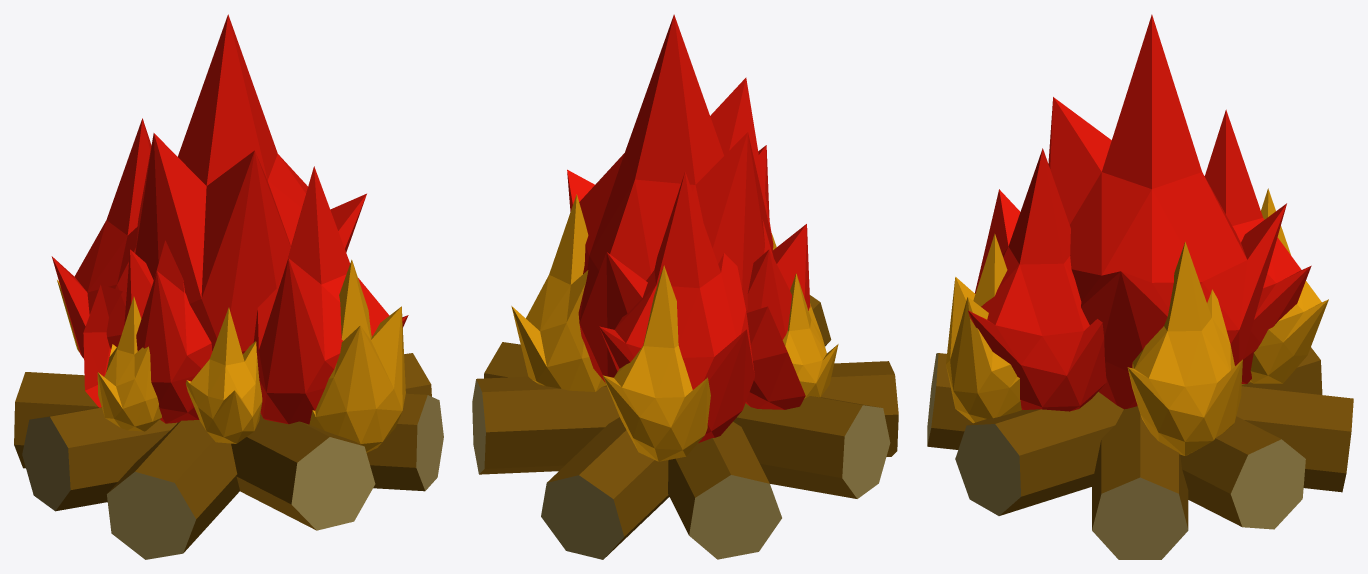
The model's file is campfire.fbx.
3 renders of one model, left to right at view 1: azimuth 30°, elevation 25°; view 2: azimuth 150°, elevation 25°; view 3: azimuth 270°, elevation 25°, orthographic.
Visible parts, largest first — view 1: Icosphere; view 2: Icosphere; view 3: Icosphere.
Part boxes in pixels (x1,y1,x2,y2): Icosphere: (14, 14, 443, 559); Icosphere: (472, 14, 898, 559); Icosphere: (927, 14, 1353, 559).
Size of the model in its own units: 419 by 515 by 422.
